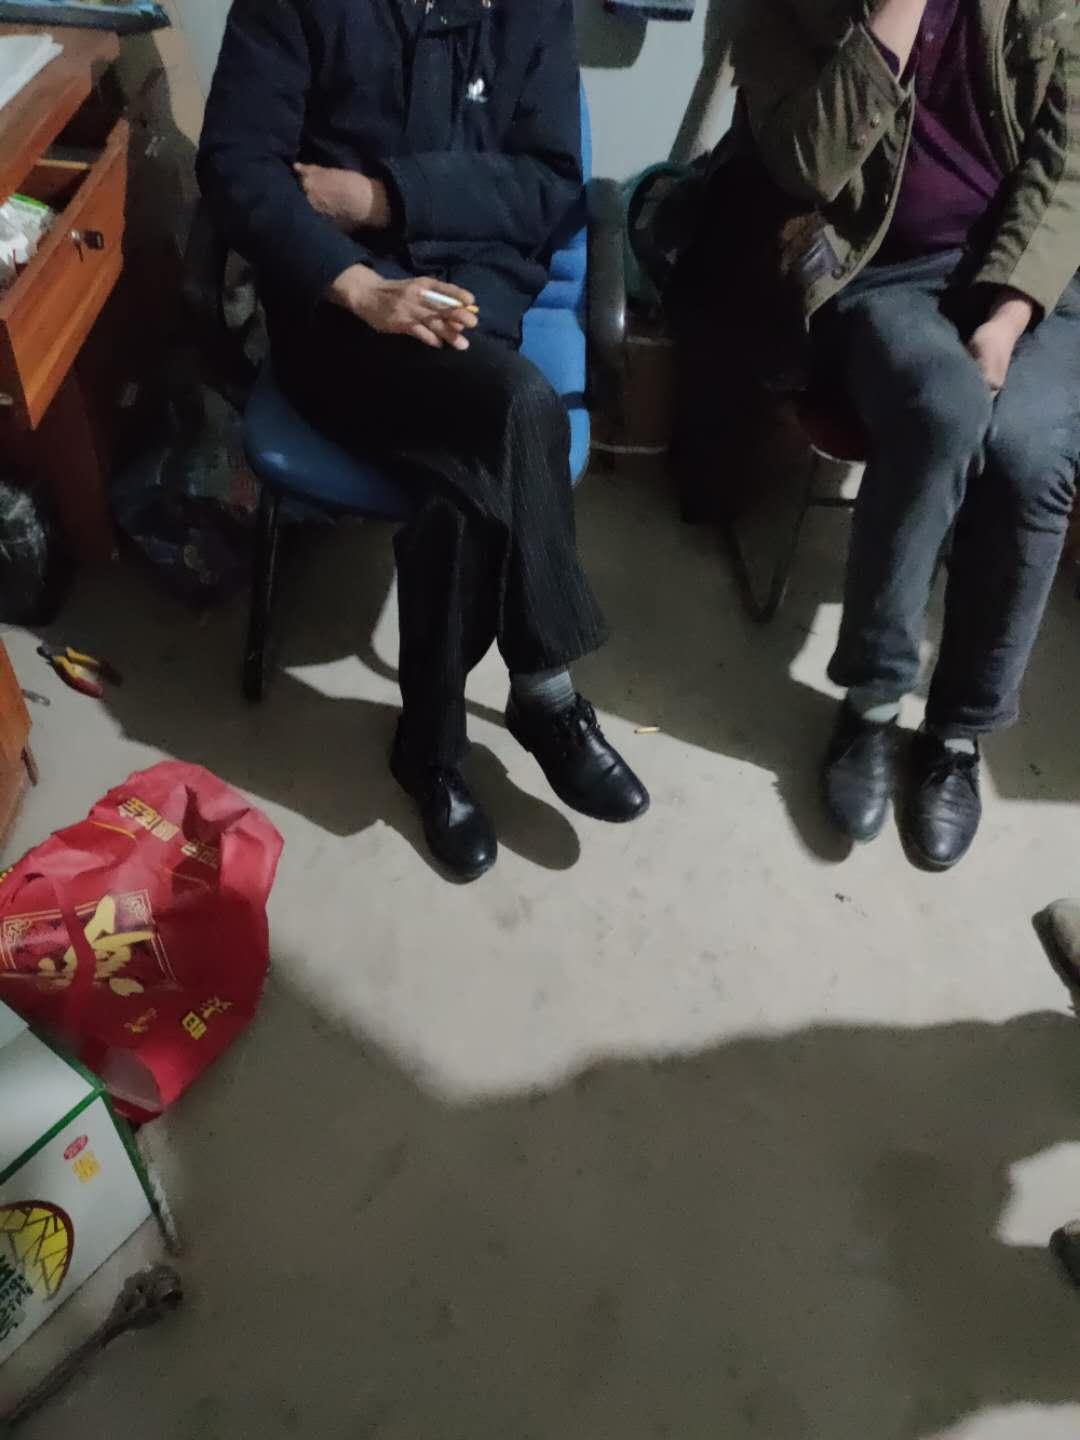Cigarette: (416, 285, 481, 316)
